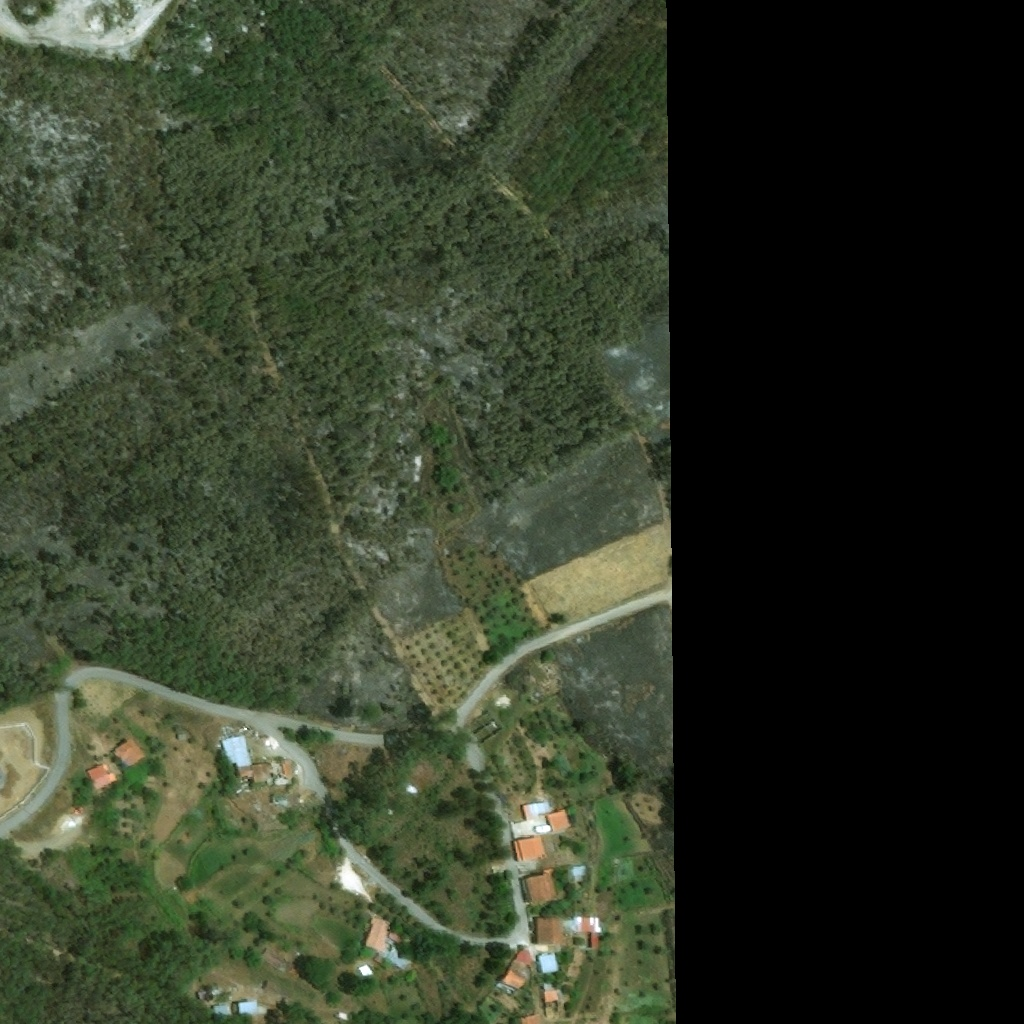0 no-damage: (523, 867, 560, 904), (364, 916, 392, 956), (513, 834, 548, 863), (511, 814, 550, 839), (114, 738, 146, 767), (223, 736, 252, 768), (536, 916, 565, 945), (87, 765, 119, 790), (576, 916, 603, 942), (547, 809, 573, 834), (500, 967, 527, 991), (524, 800, 553, 819), (233, 1001, 267, 1016), (539, 953, 561, 974), (197, 987, 221, 1006), (511, 957, 532, 977), (253, 763, 272, 784), (568, 865, 589, 884), (262, 980, 281, 997), (517, 948, 533, 966), (213, 1005, 232, 1019), (283, 759, 296, 779), (357, 964, 374, 979), (545, 983, 558, 1002), (388, 930, 404, 945), (238, 766, 255, 780), (521, 1014, 541, 1023), (0, 771, 7, 793), (338, 1012, 349, 1021)
3 destroyed: (498, 692, 516, 711)
